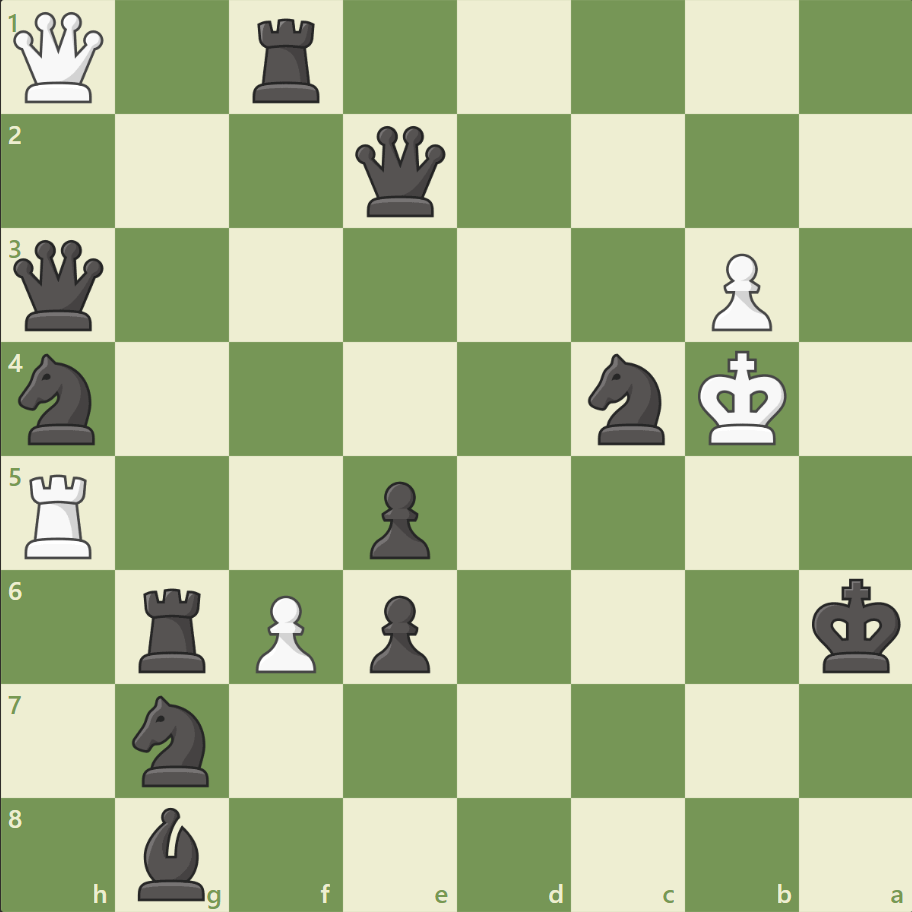K: (692, 344, 792, 452)
P: (247, 586, 322, 677), (701, 246, 776, 337)
Q: (10, 9, 109, 108)
R: (19, 466, 102, 563)
b: (131, 801, 215, 904)
k: (806, 571, 906, 679)
n: (124, 688, 222, 791), (579, 348, 676, 450), (11, 348, 108, 450)
p: (361, 586, 435, 677), (361, 473, 435, 564)
q: (351, 122, 450, 222), (10, 236, 109, 335)
r: (246, 12, 329, 109), (133, 579, 215, 676)
